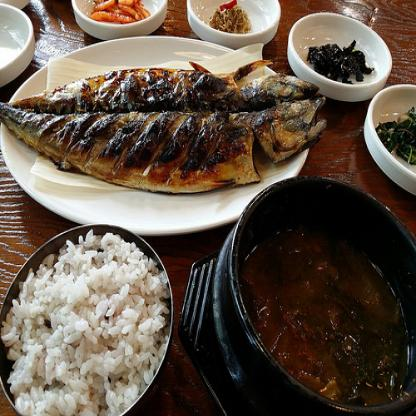Peixe: (0, 65, 331, 190)
